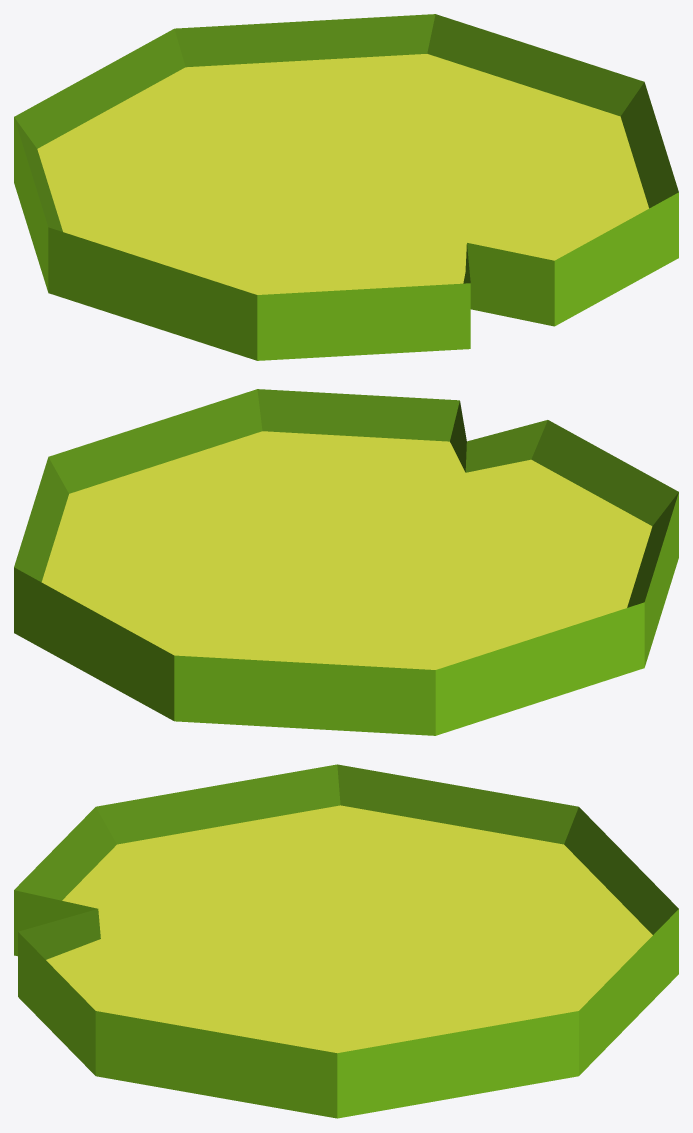
File: Plant003_V1.fbx
3 views of the same model, one above another, from view 1: azimuth 30°, elevation 25°; view 2: azimuth 150°, elevation 25°; view 3: azimuth 270°, elevation 25° (orthographic).
Visible parts, largest first — view 1: Plant003; view 2: Plant003; view 3: Plant003.
Part boxes in pixels (x1,y1,x2,y2): Plant003: (14,14,678,360); Plant003: (14,389,678,735); Plant003: (14,764,678,1118).
Bounding box in the file's own units: 1.05 × 0.1112 × 1.03.
